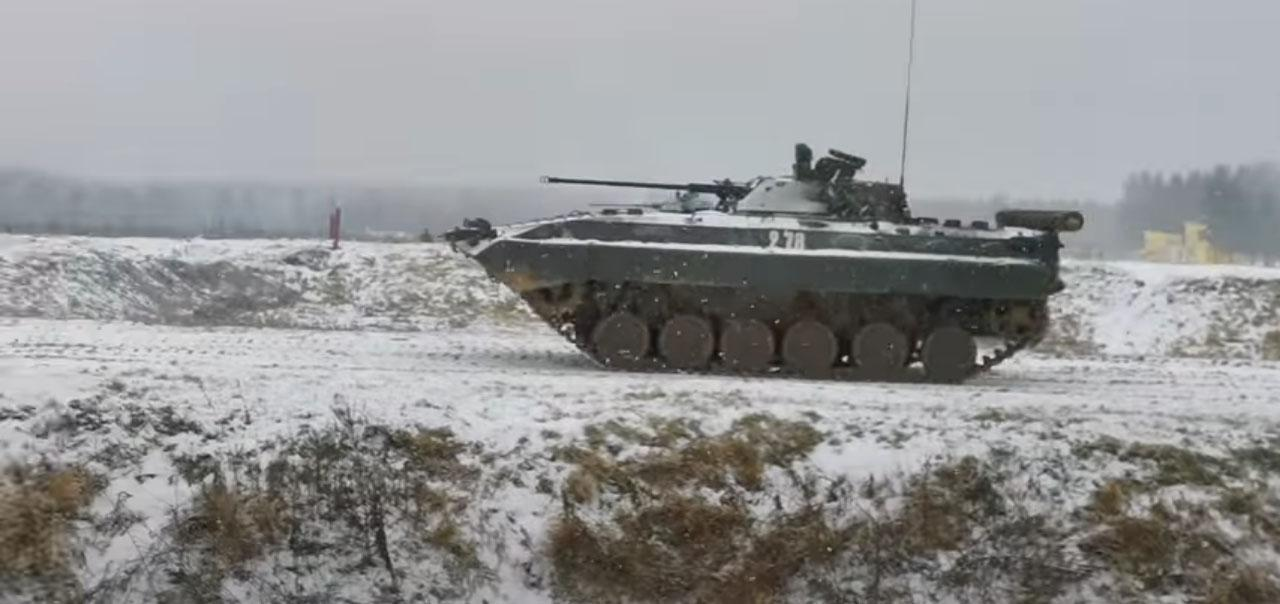tank: (424, 150, 1084, 414)
